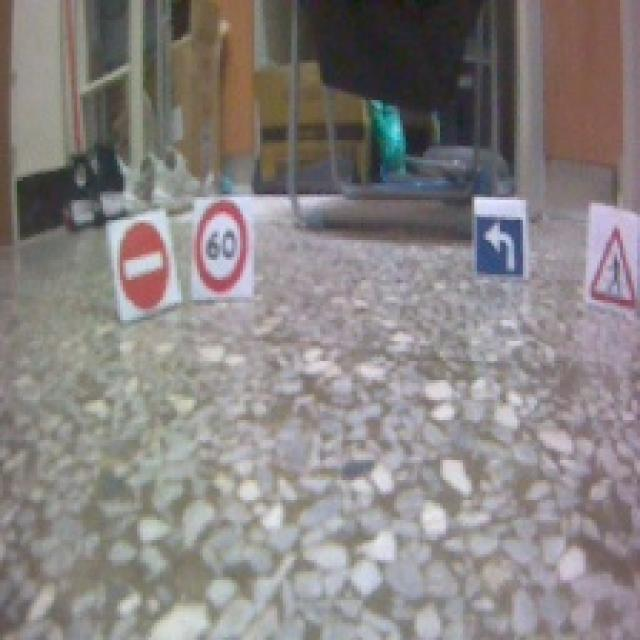DoNotEnterSign: (119, 220, 174, 305)
